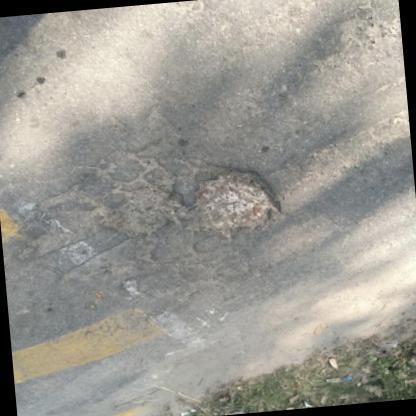pothole: (192, 158, 281, 235), (92, 176, 188, 241)
